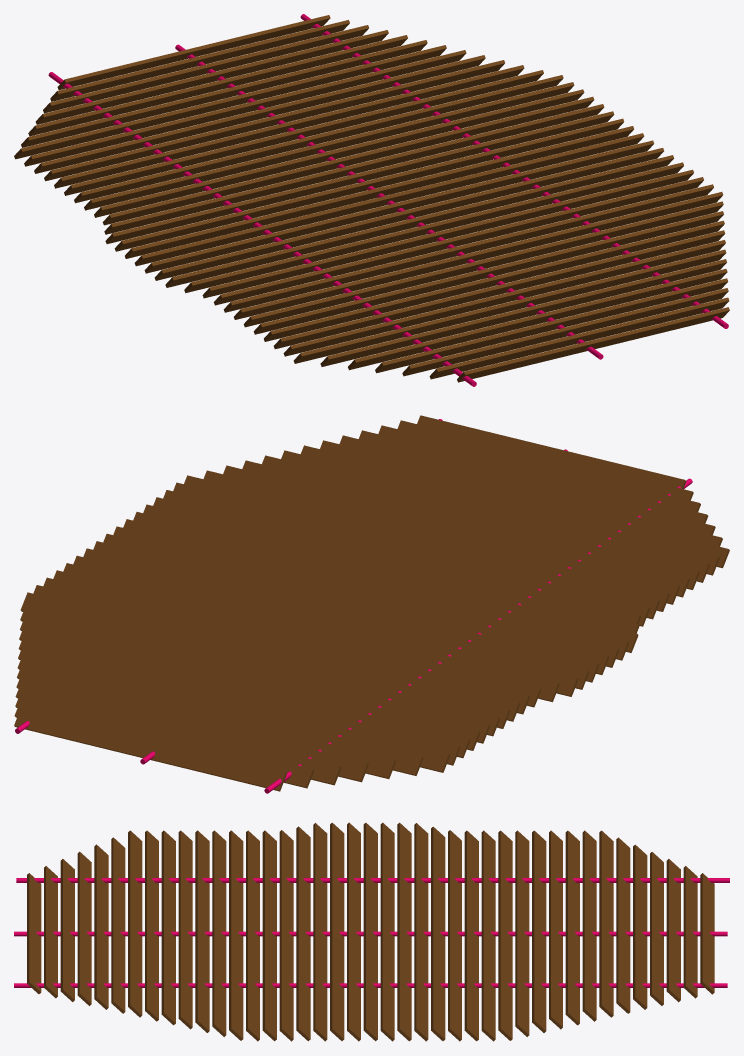
Rendered from fbx_HallCeilingDeco_V1.0.fbx.
3 renders of one model, top to bottom at view 1: azimuth 30°, elevation 25°; view 2: azimuth 150°, elevation 25°; view 3: azimuth 270°, elevation 25°, orthographic. The views are drawn at different scales.
Parts seen in each view (by area): view 1: polySurface111; view 2: polySurface111; view 3: polySurface111.
Boxes of the visible parts, x1,y1,x2,y2 form: polySurface111: (14,14,729,386); polySurface111: (14,415,729,793); polySurface111: (14,822,729,1041).
Bounding box in the file's own units: 1305 × 37.85 × 1914.
